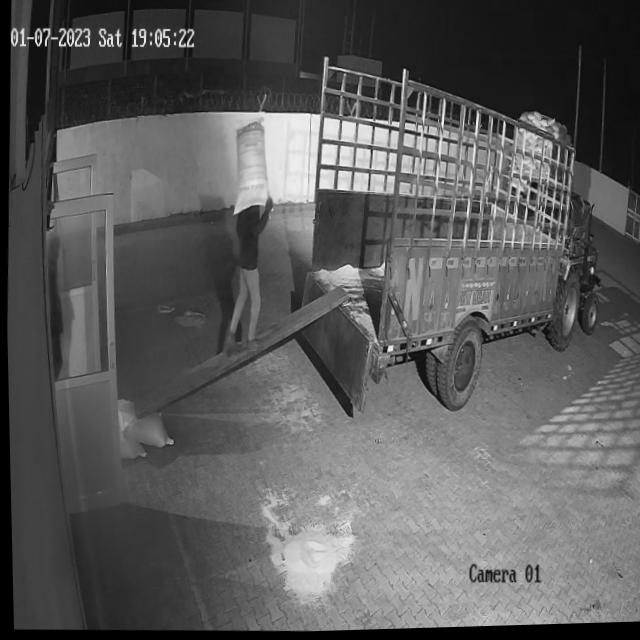sack: (229, 121, 270, 218), (116, 398, 172, 449)
